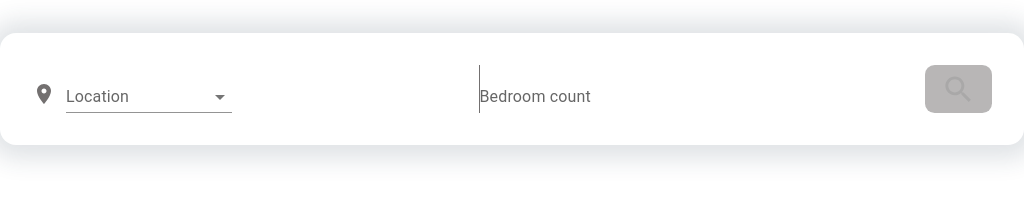
Test: MainSearch component › has open popup when click on label
This screenshot has width=1024, height=215.
Click the text "Bedroom count" at (544, 96), box top-left (480, 85), bottom-right (610, 108)
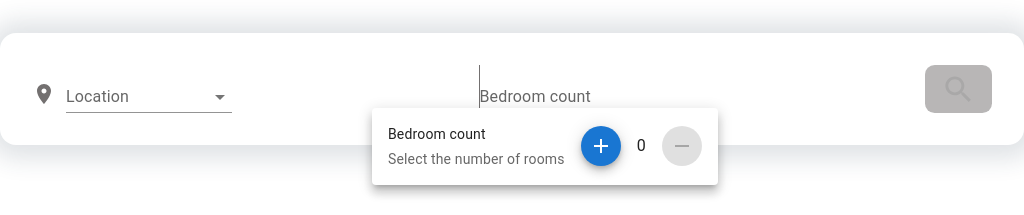
Now the text "Select the number of rooms" is shown, box top-left (388, 149), bottom-right (565, 169)
